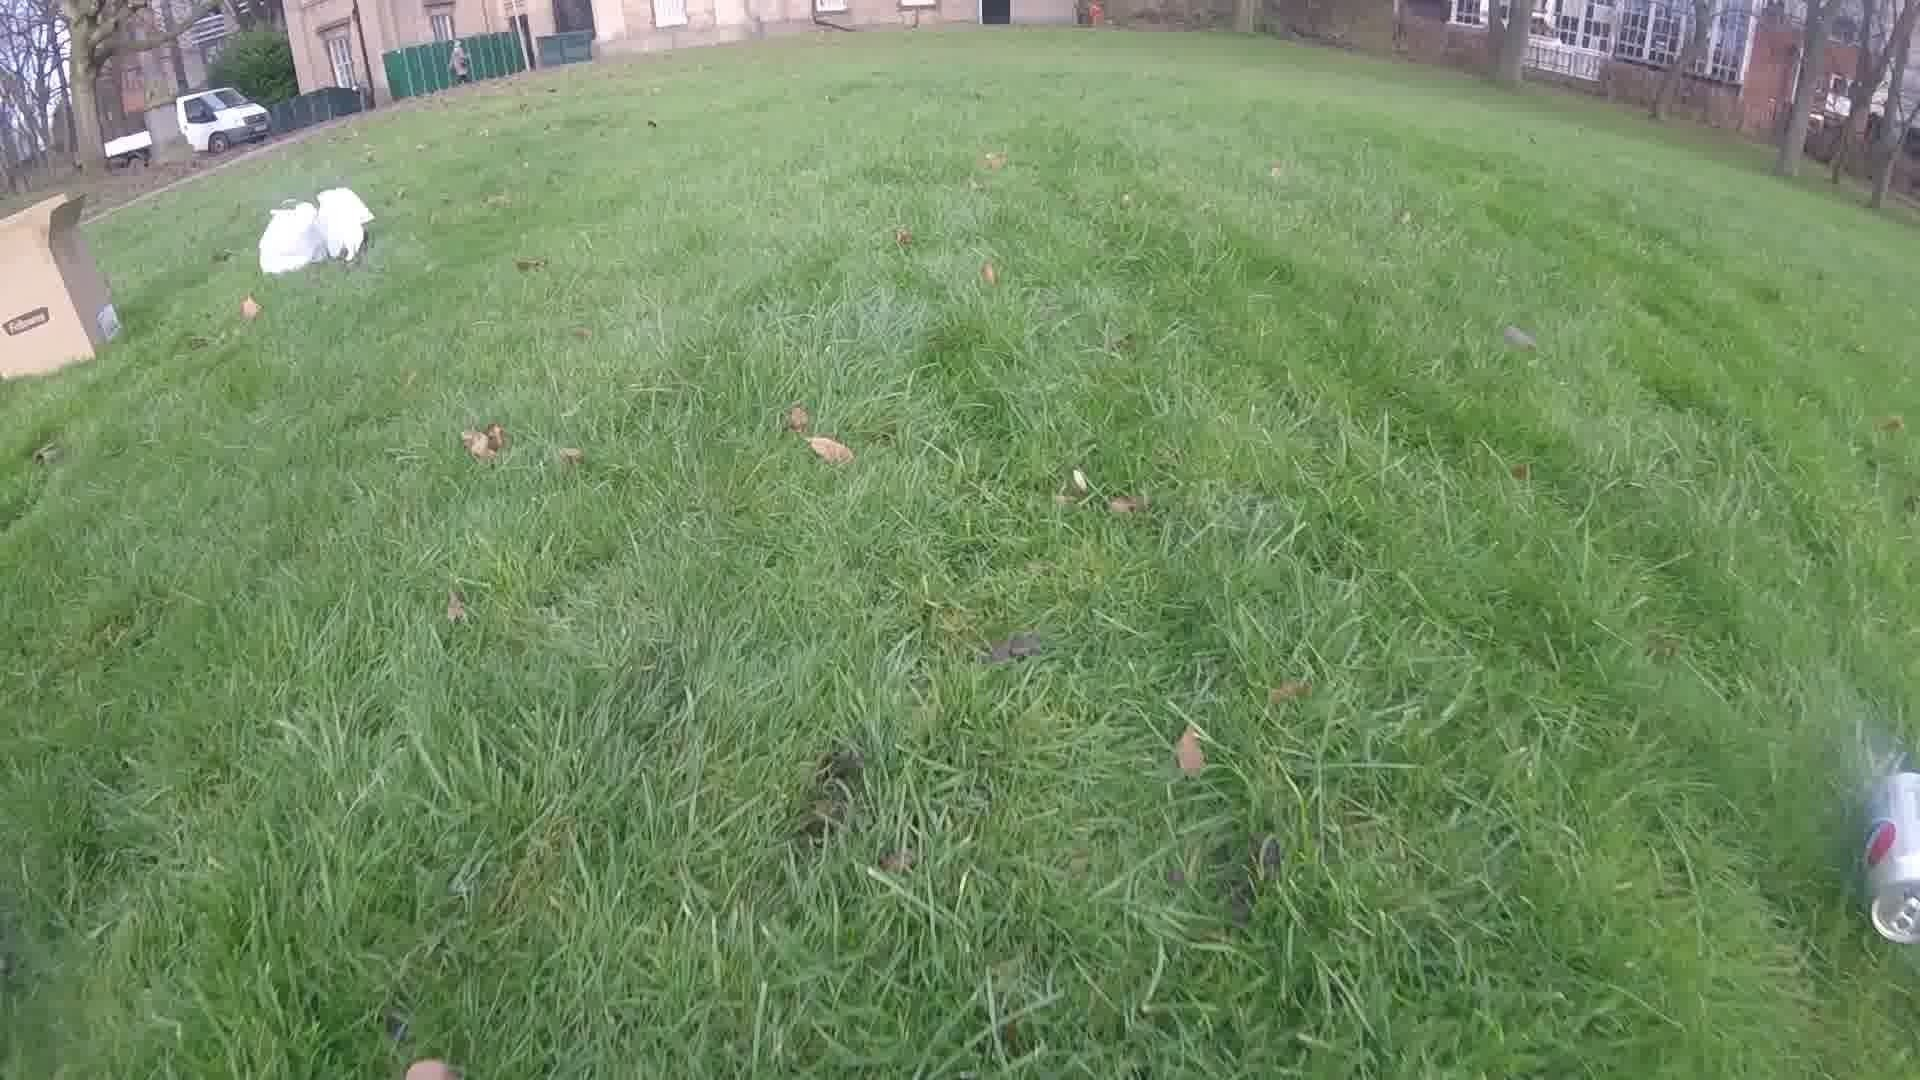litter: (1, 194, 117, 385), (1857, 770, 1917, 953), (256, 189, 375, 273)
